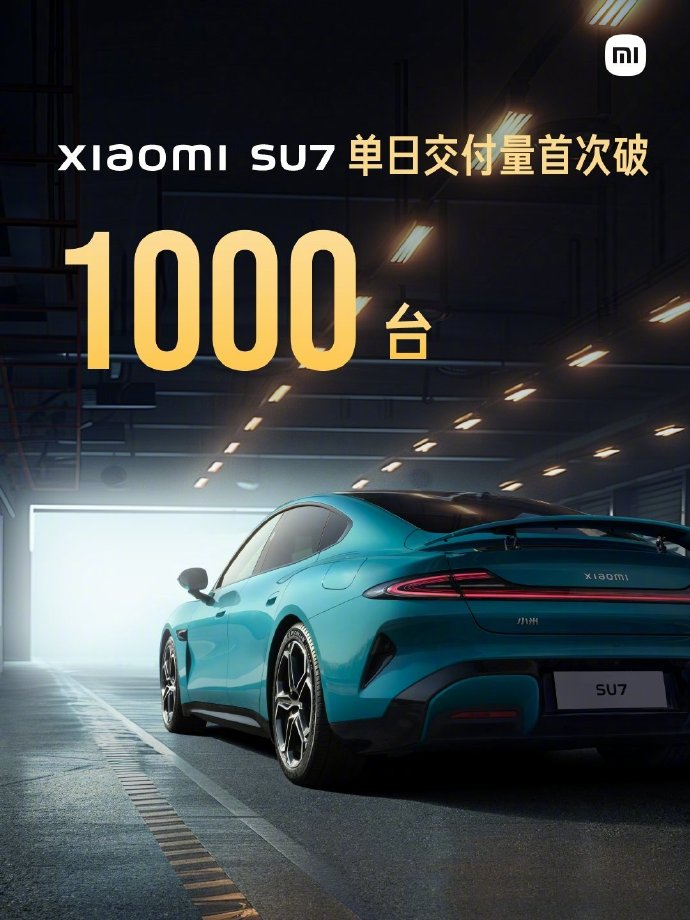su7: (150, 487, 690, 768)
